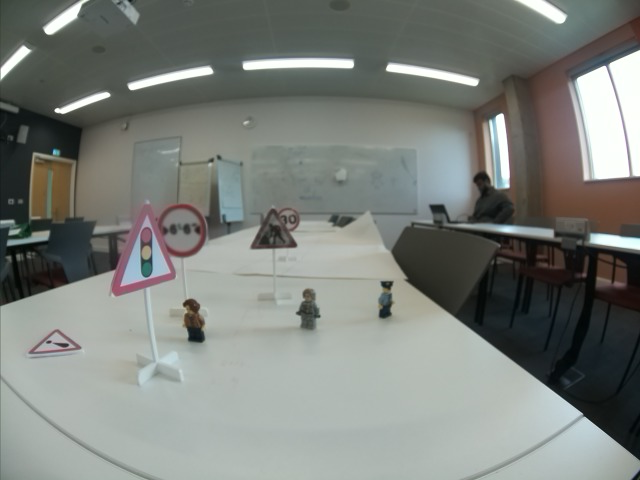30mph: (280, 206, 298, 229)
6ft6: (158, 204, 210, 257)
Lego Man: (295, 287, 324, 329), (182, 296, 207, 342), (377, 280, 397, 319)
Roadworks: (249, 209, 297, 250)
Traffic lights: (112, 209, 174, 298)
Warning: (28, 327, 85, 360)
